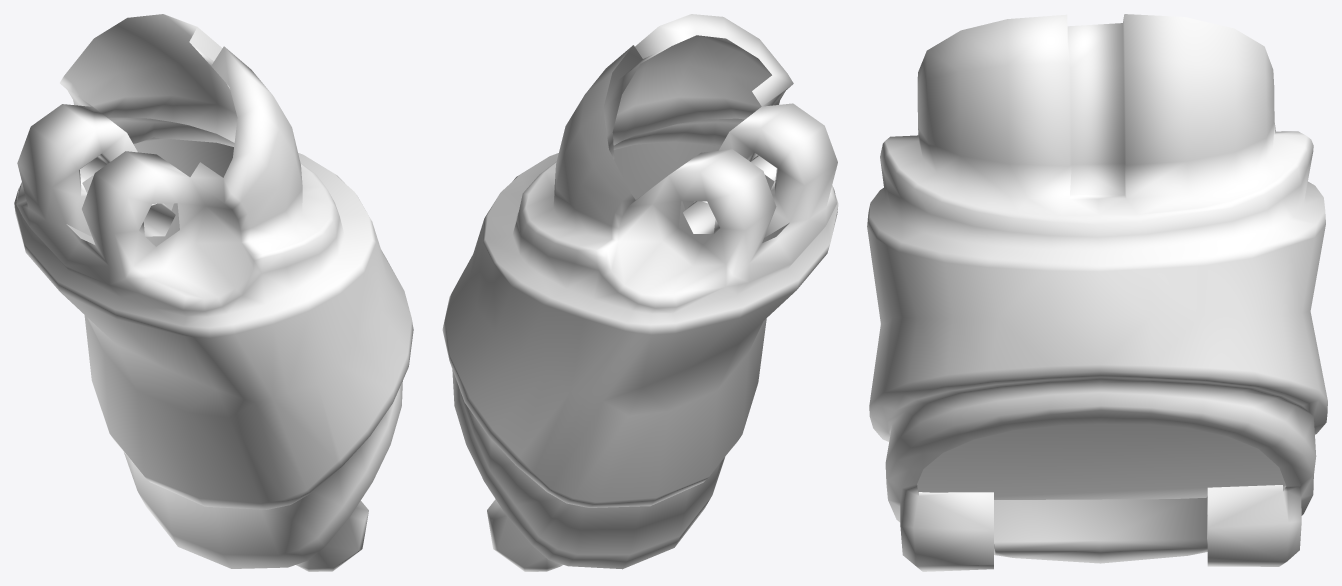
Rendered from LThumb1.dae.
The picture shows the model from 3 angles, left to right: view 1: azimuth 30°, elevation 25°; view 2: azimuth 150°, elevation 25°; view 3: azimuth 270°, elevation 25°; orthographic projection. The views are drawn at different scales.
Parts seen in each view (by area): view 1: LThumb1; view 2: LThumb1; view 3: LThumb1.
Boxes of the visible parts, x1=… form: LThumb1: x1=14, y1=14, x2=413, y2=571; LThumb1: x1=442, y1=14, x2=838, y2=571; LThumb1: x1=867, y1=14, x2=1327, y2=571.
Bounding box in the file's own units: 0.136 × 0.1591 × 0.2132.
Materials: 1 (1 with a texture image).
